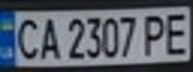0: (103, 13, 121, 60)
2: (63, 14, 87, 61)
3: (81, 13, 103, 60)
7: (118, 12, 142, 57)
A: (36, 15, 63, 61)
C: (9, 15, 42, 61)
E: (160, 9, 193, 55)
P: (139, 11, 172, 57)
